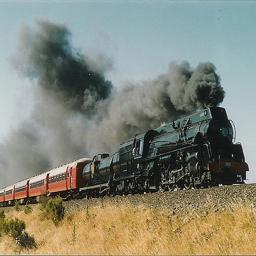train: (116, 166, 256, 256)
